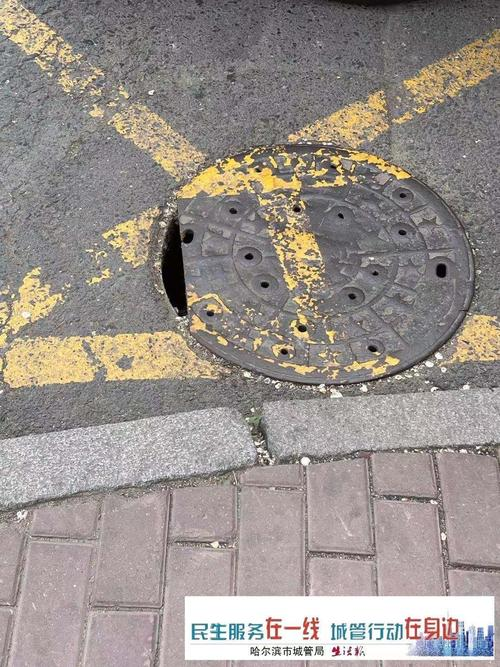broke: (112, 127, 482, 381)
